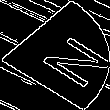N_NW: (10, 24, 100, 86)
